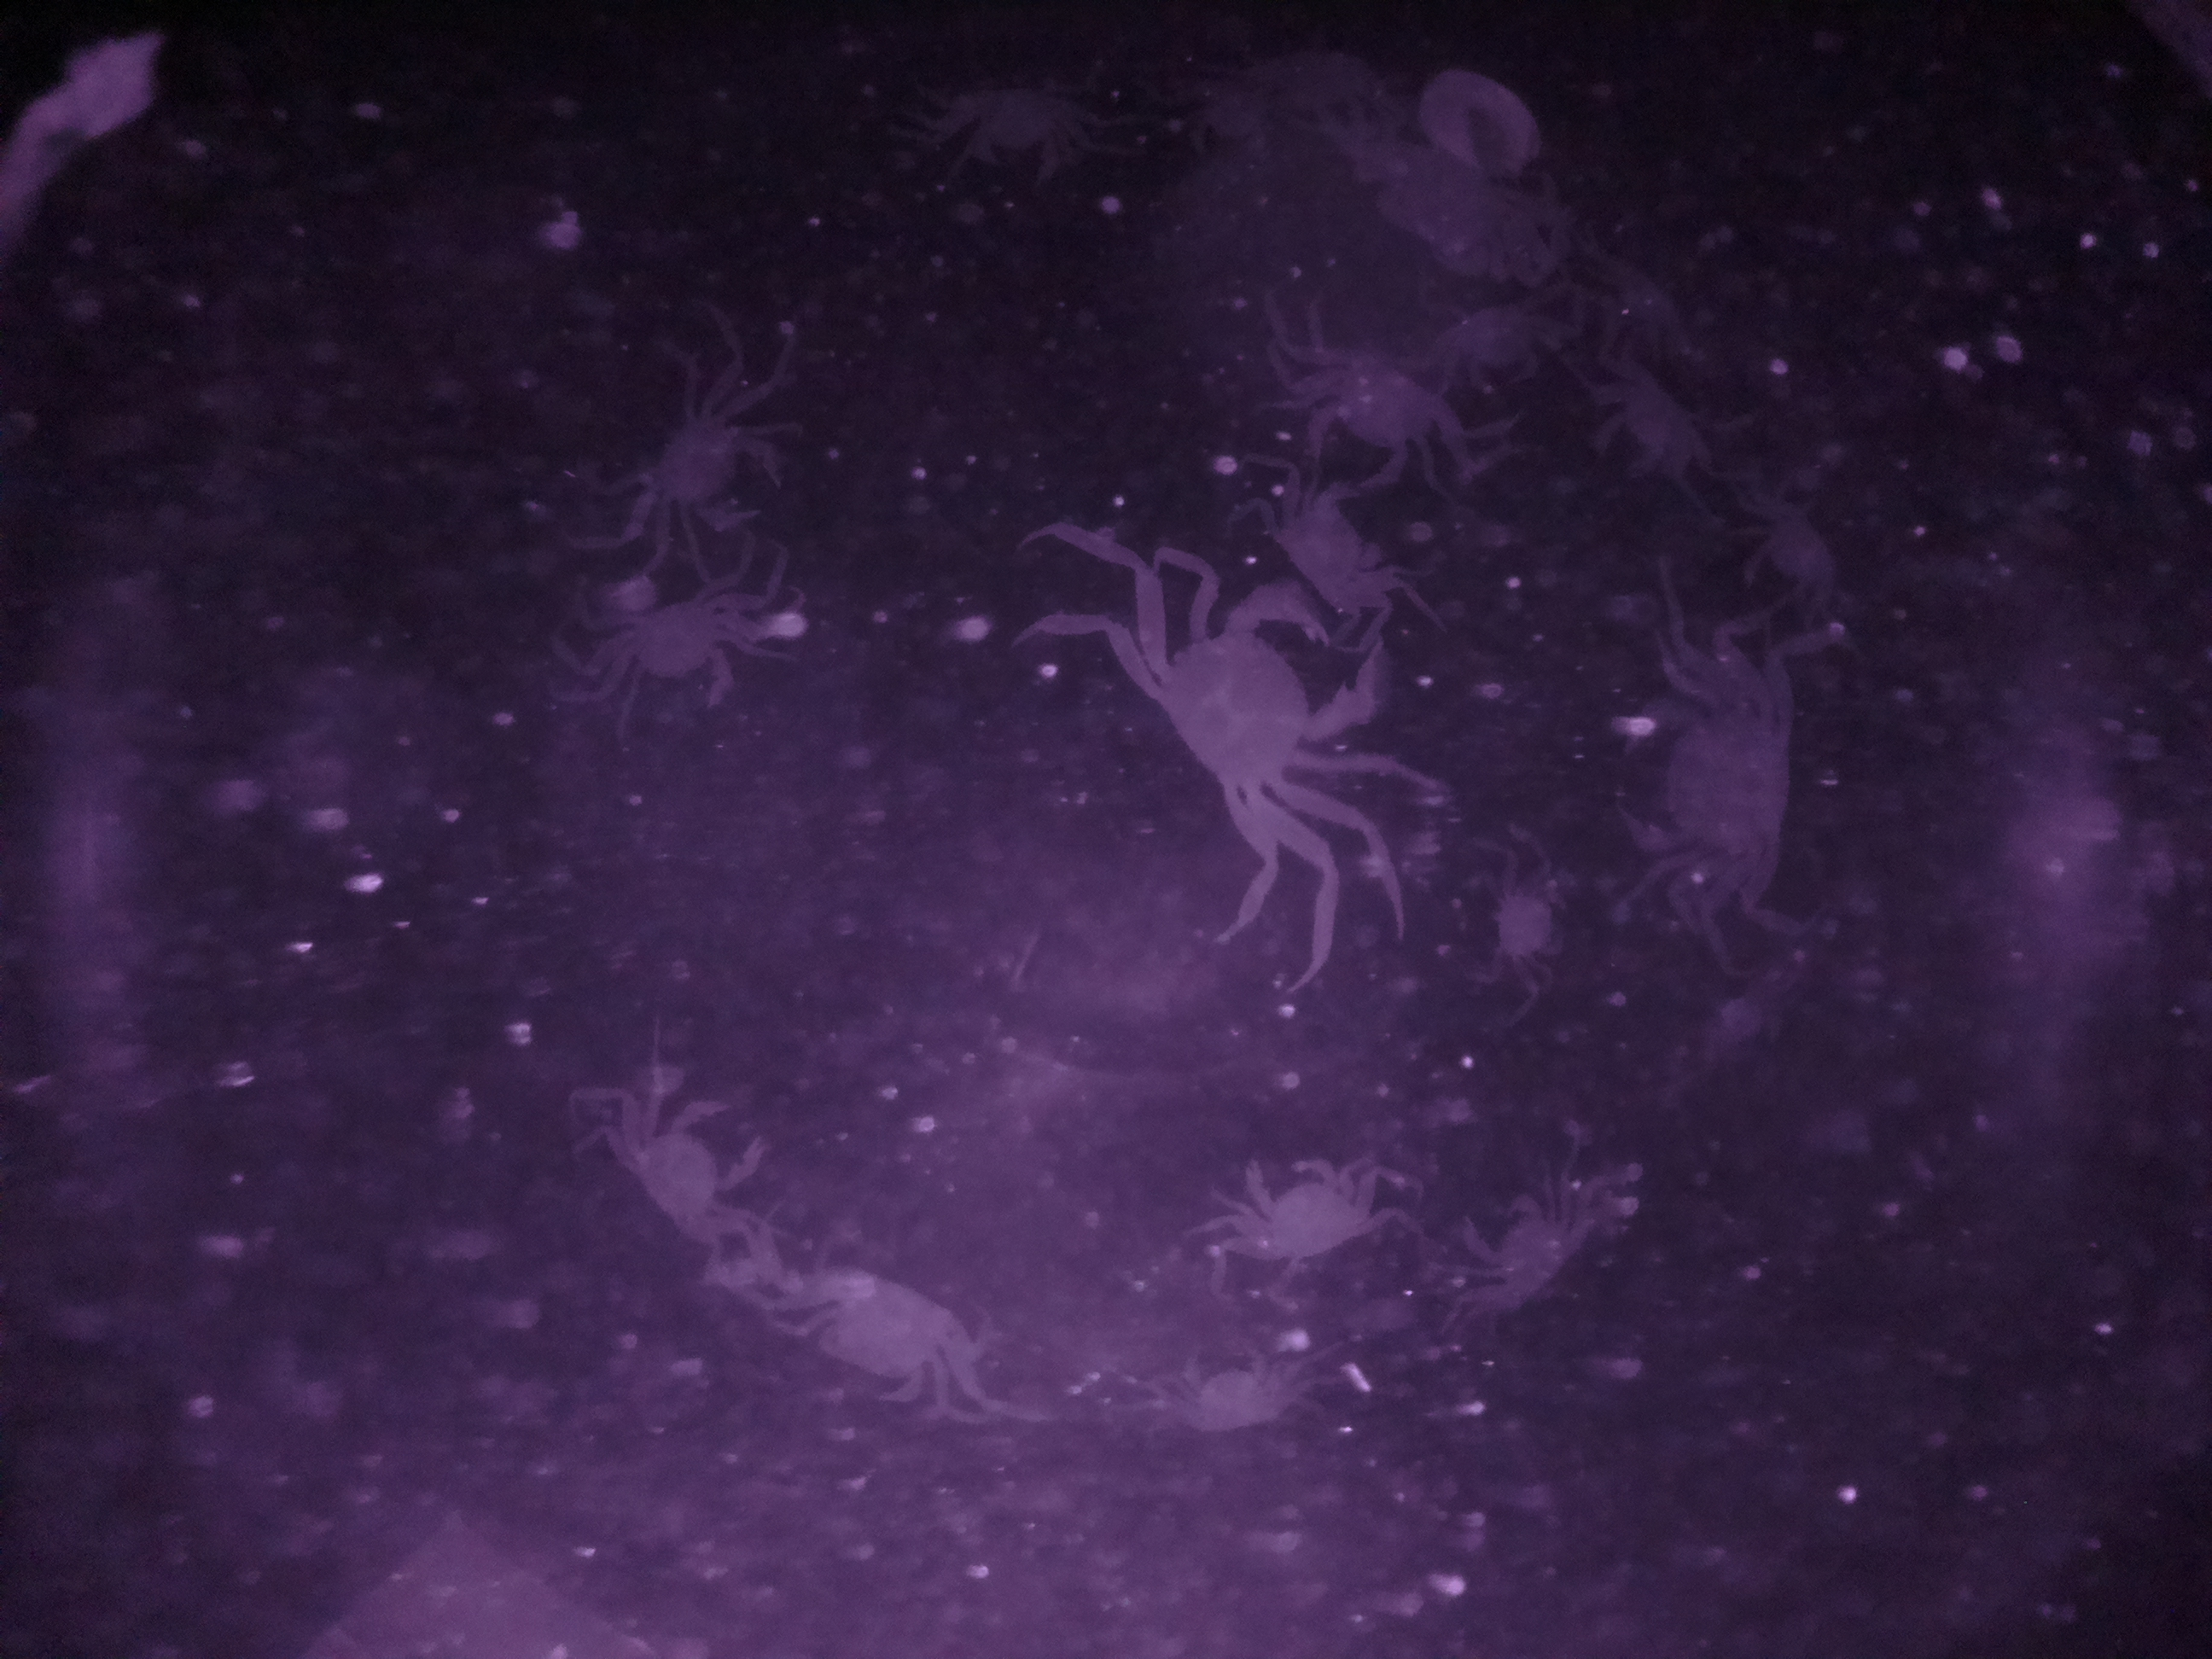Crab: (1097, 577, 1404, 835), (1590, 676, 1836, 894), (765, 1243, 982, 1427), (587, 1079, 784, 1267), (1271, 336, 1493, 498), (566, 587, 775, 728), (622, 382, 798, 544), (1209, 1134, 1395, 1277), (1447, 1166, 1606, 1328)
